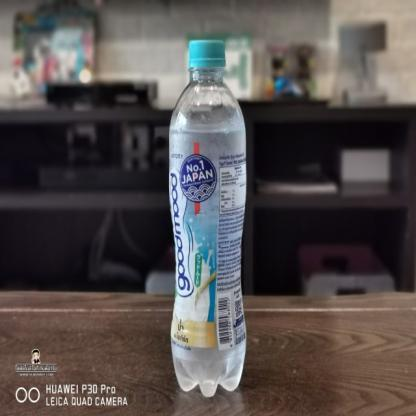plastic_bottle: (165, 37, 251, 399)
